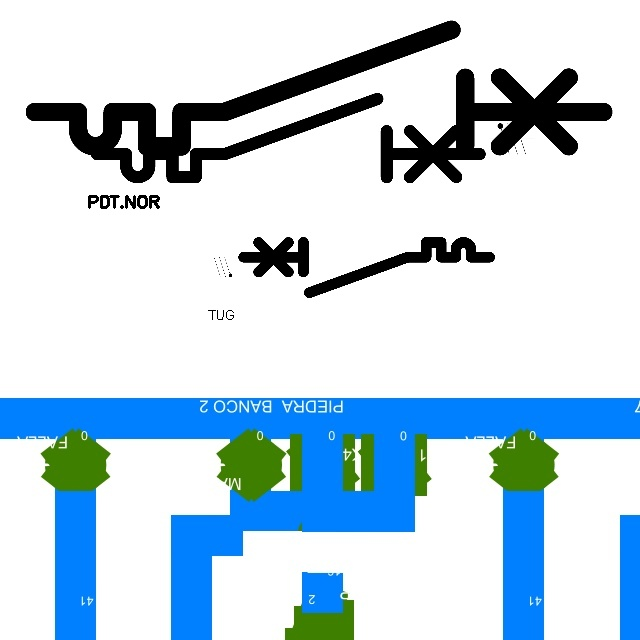interruptor_termomagnetico: (20, 15, 618, 161), (87, 89, 489, 187), (237, 236, 495, 299)
